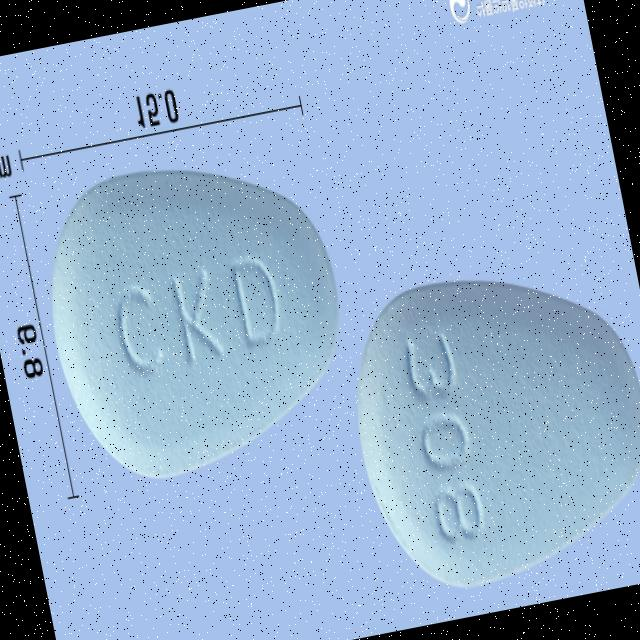Tenofobell Tab: (25, 137, 368, 500), (334, 247, 640, 610)
